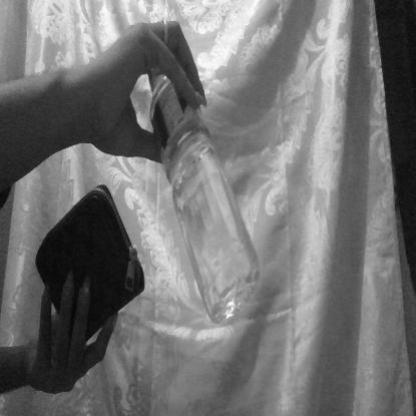Plastic Bottle: (129, 22, 268, 330)
